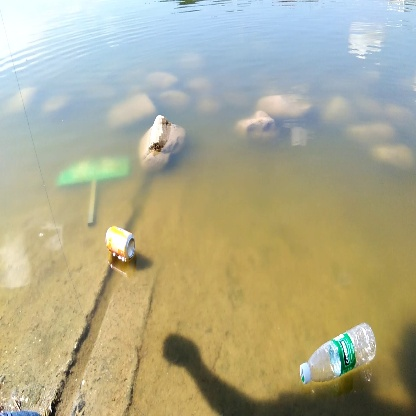bottle: (297, 308, 379, 385), (101, 220, 146, 265)
